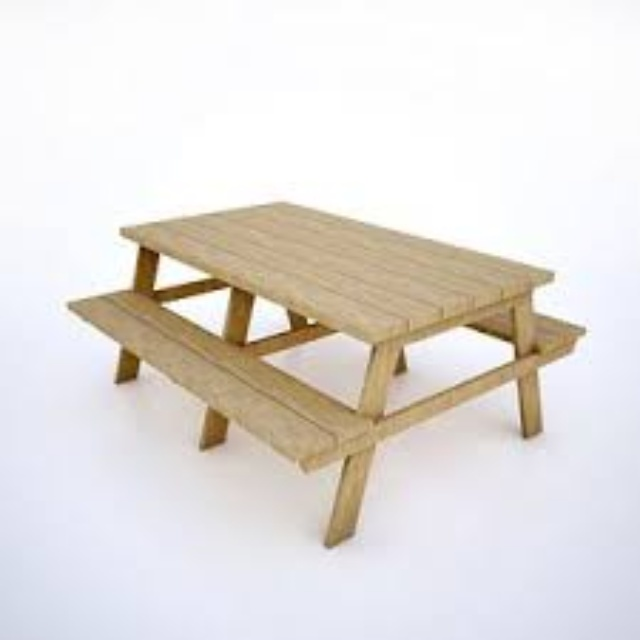obstacle: (63, 193, 594, 555)
